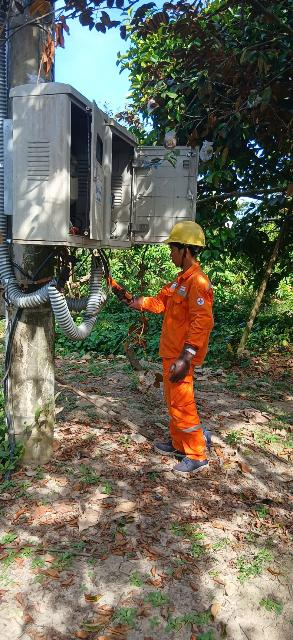gloves: (165, 338, 201, 386), (112, 282, 149, 313)
helmet: (154, 220, 213, 249)
shoes: (169, 449, 212, 477), (152, 434, 189, 457)
